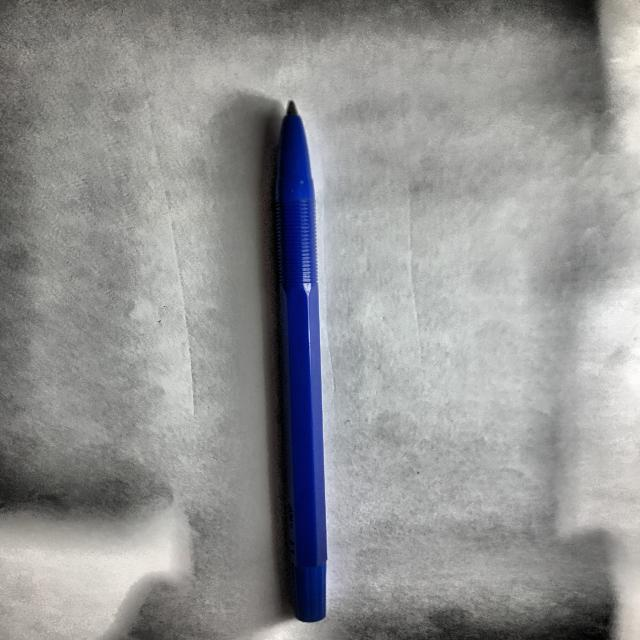Pulpen: (248, 89, 362, 634)
